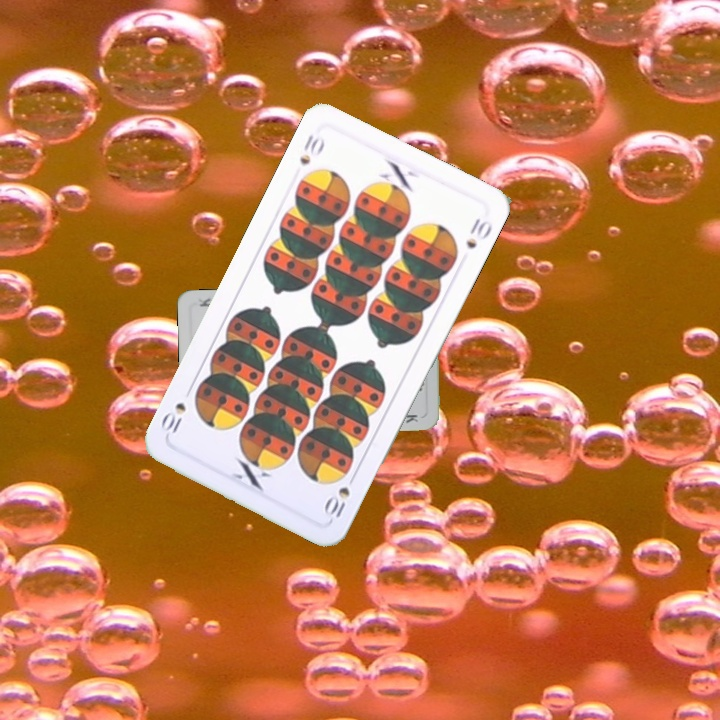S10: (320, 468, 358, 523), (295, 129, 328, 168)
